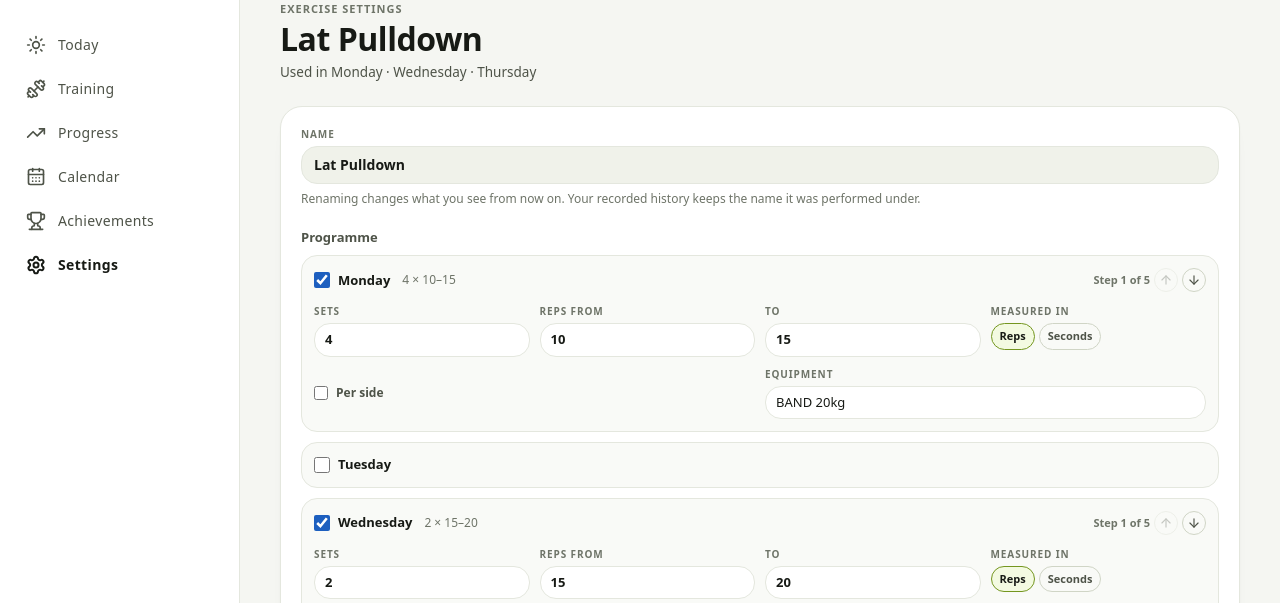
K. a stale save › reloads the latest when asked, discarding nothing silently
Replace the text in the field labelled "Name" with "Mine" at (760, 165), box [301,146,1219,184]
(page scrolled)
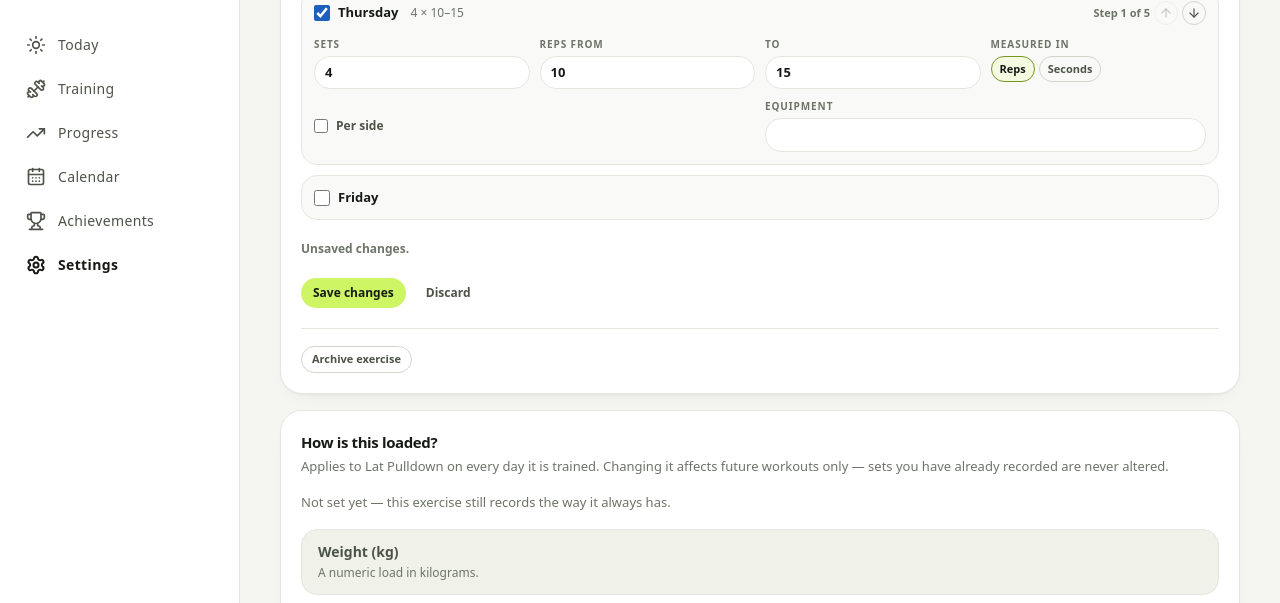
Click the button "Save changes" at (353, 294), box [301,278,406,308]
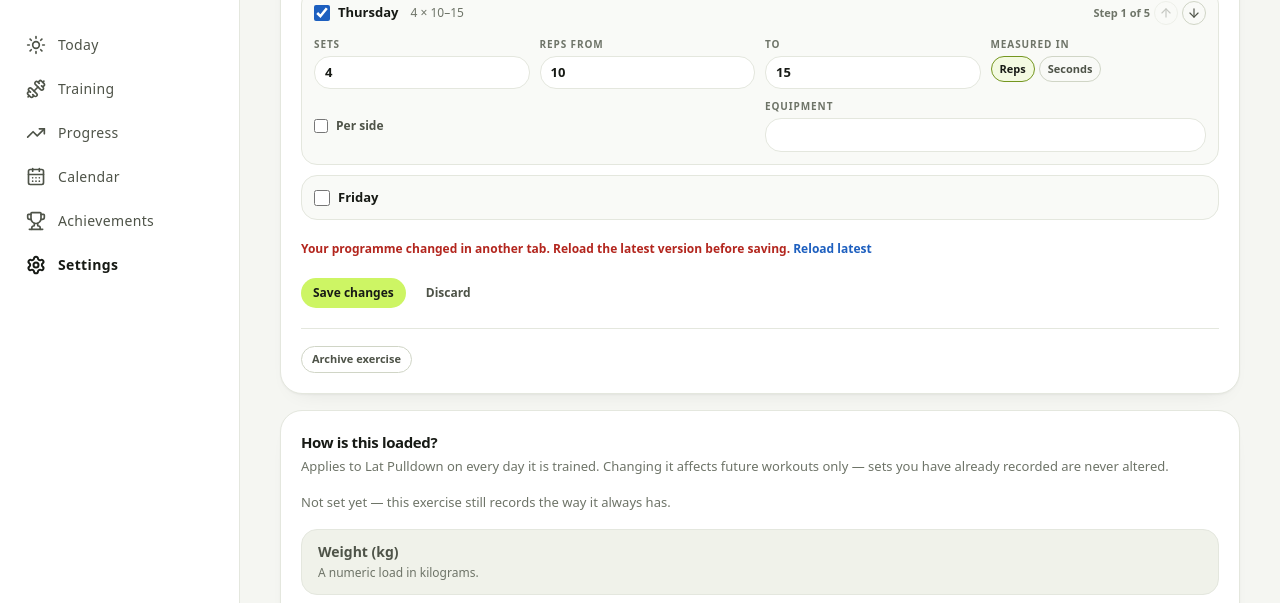
Now the 1st message is shown, box [301,240,872,258]
Click the button "Reload latest" at (832, 250), box [793,240,872,258]
(page scrolled)
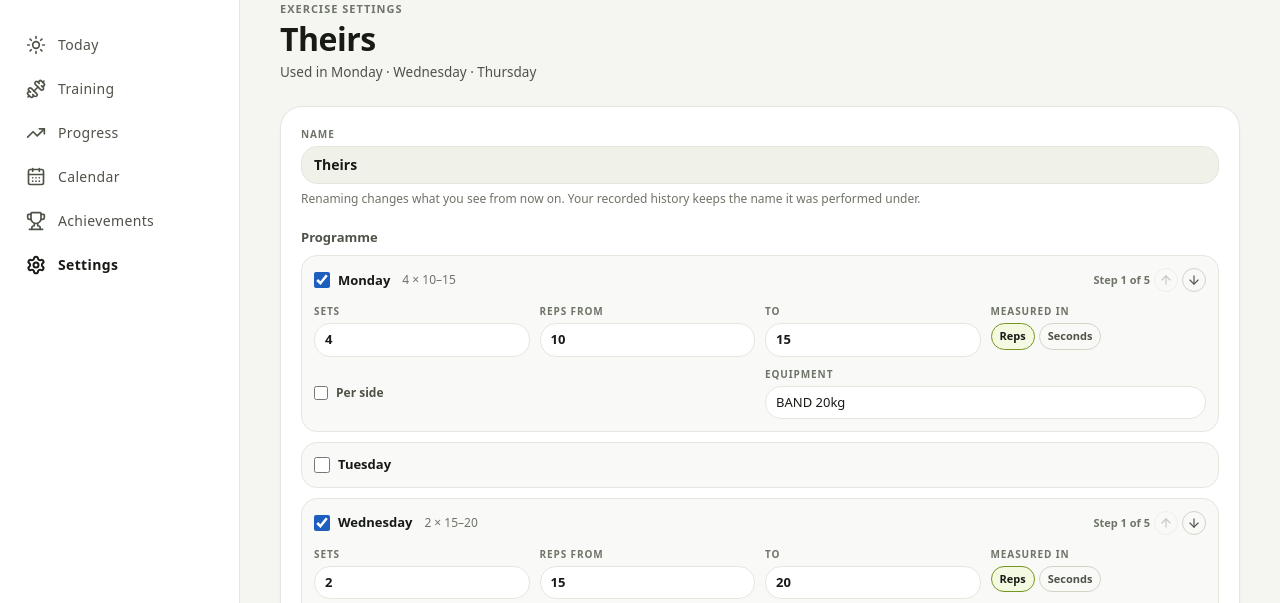
Now the field labelled "Name" holds "Theirs", box [301,146,1219,184]
